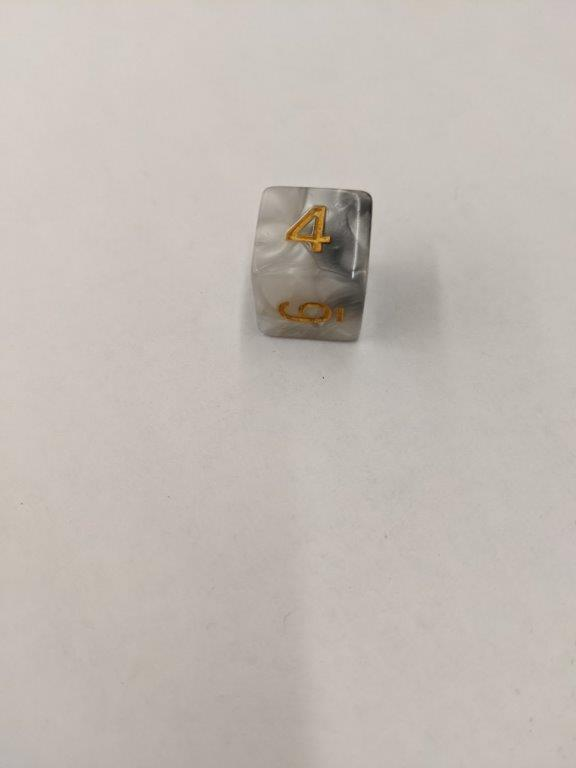d6-4: (249, 185, 372, 346)
